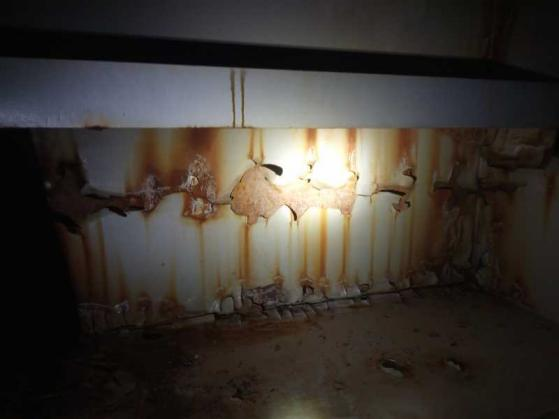corrosion: (424, 133, 515, 284), (283, 123, 330, 312), (66, 213, 136, 325), (163, 124, 233, 222), (374, 132, 418, 284), (236, 129, 266, 307), (121, 127, 165, 216), (339, 130, 363, 289), (184, 219, 219, 304)
